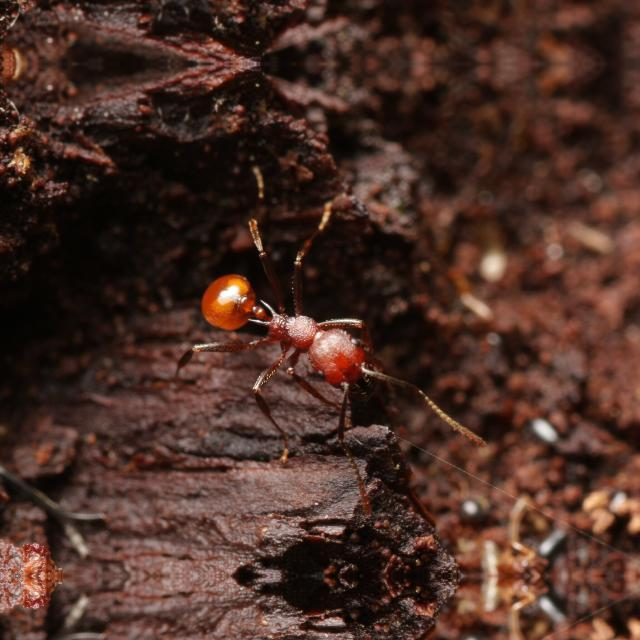Apheanogaster: (172, 252, 472, 456)
